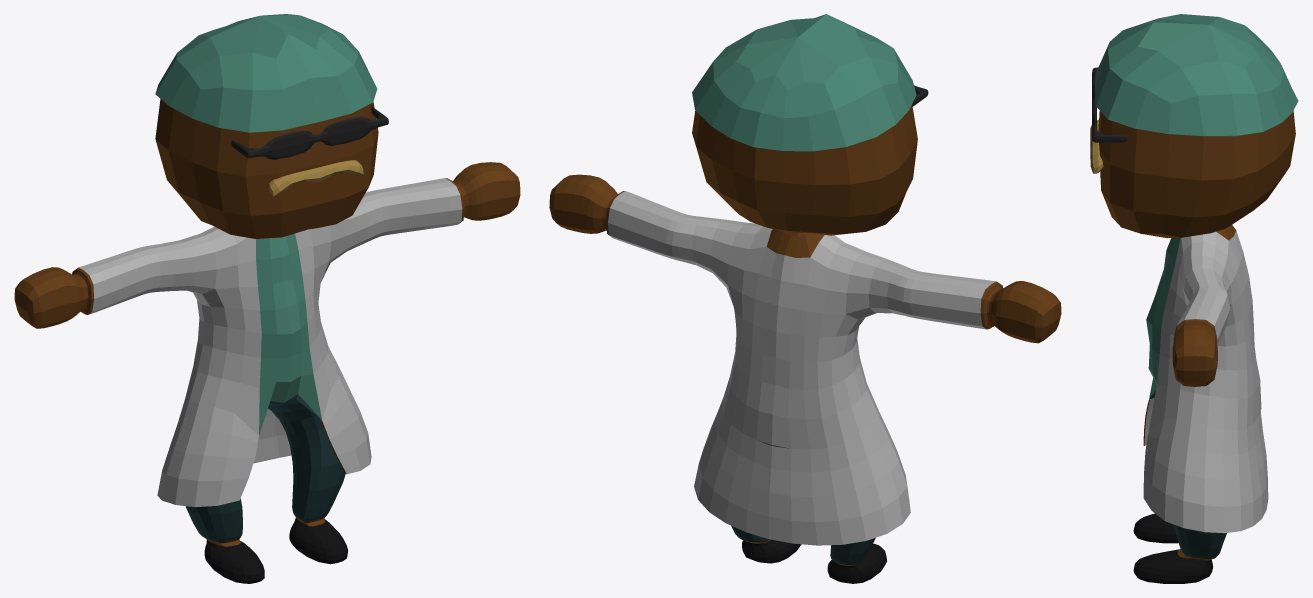
The model's file is Doctor-3.fbx.
3 renders of one model, left to right at view 1: azimuth 30°, elevation 25°; view 2: azimuth 150°, elevation 25°; view 3: azimuth 270°, elevation 25°, orthographic.
Visible parts, largest first — view 1: Doctor, Glasses, Stache; view 2: Doctor; view 3: Doctor, Glasses, Stache.
Part boxes in pixels (bbox=[...]): Doctor: bbox=[14, 14, 520, 583]; Glasses: bbox=[231, 106, 388, 159]; Stache: bbox=[269, 160, 363, 196]; Doctor: bbox=[549, 14, 1061, 583]; Doctor: bbox=[1095, 14, 1298, 583]; Glasses: bbox=[1092, 67, 1126, 142]; Stache: bbox=[1090, 119, 1103, 173].
Size of the model in its own units: 316 by 329 by 116.
